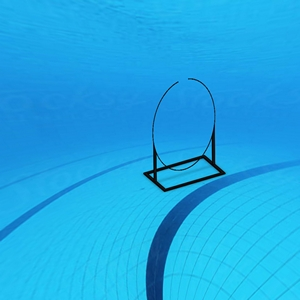circle: (142, 77, 227, 195)
